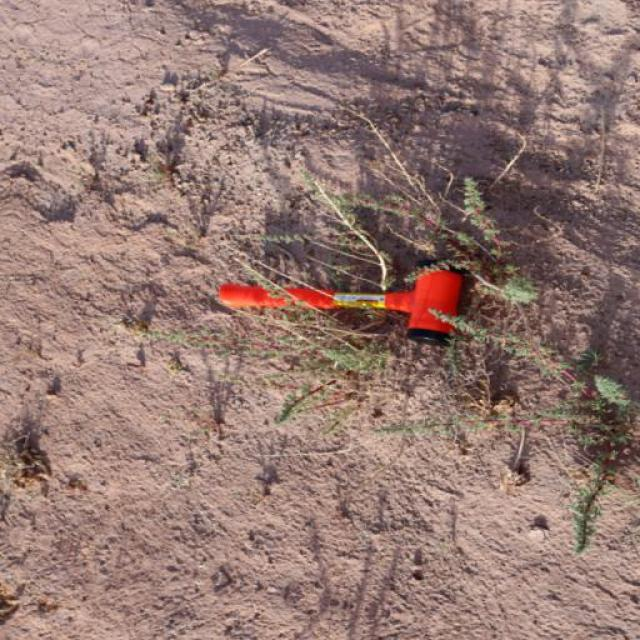mallet: (216, 266, 464, 345)
